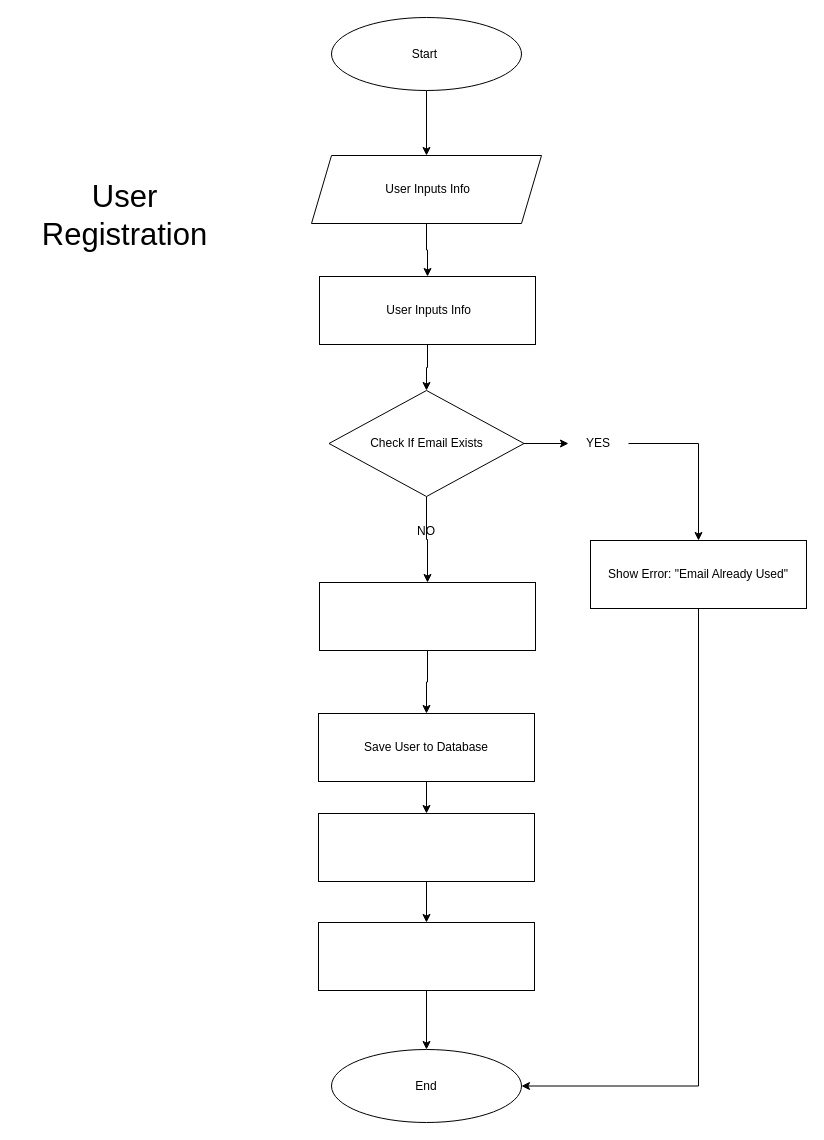
Some shapes in this 824 by 1140 pixel diagram are drawn without their labels. The centre of each missing label's shape, as x and y in pixels:
Hash Password: the point at 427,616
Send Confirmation Email: the point at 426,847
Show Success: the point at 426,956
